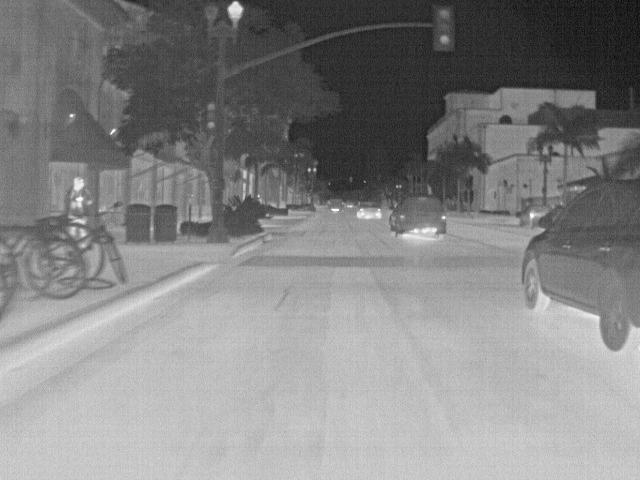car: (514, 179, 640, 353), (388, 194, 448, 239), (521, 205, 546, 230), (355, 202, 383, 220), (327, 198, 343, 212)
person: (67, 176, 87, 223)
